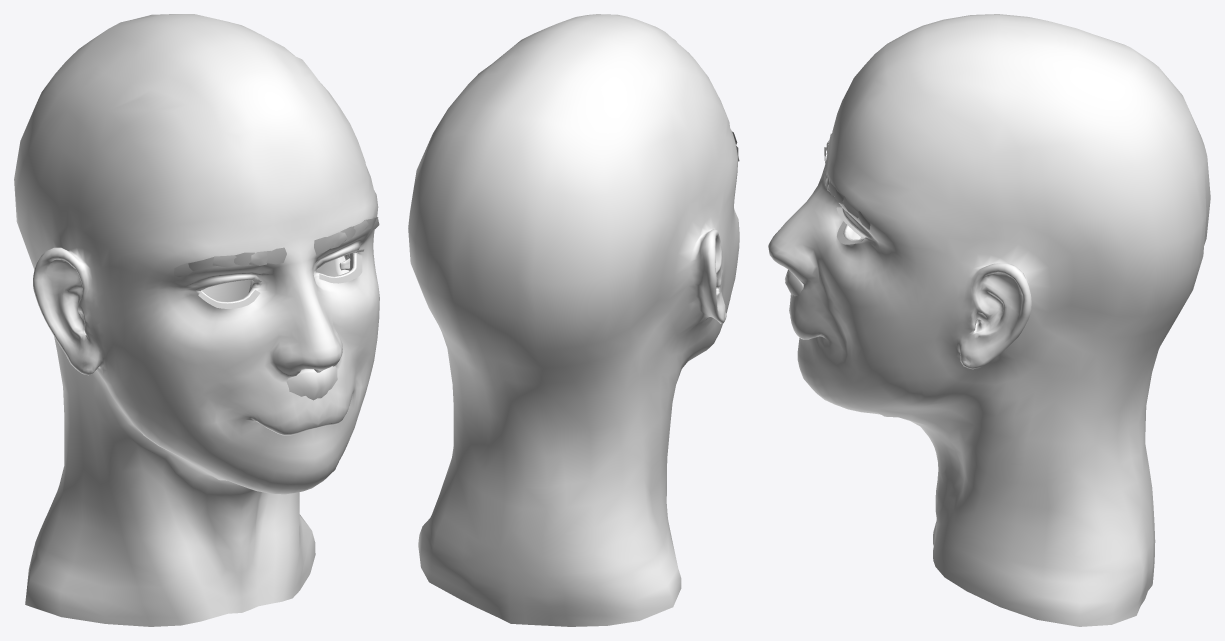
Rendered from mouthClose.obj.
3 renders of one model, left to right at view 1: azimuth 30°, elevation 25°; view 2: azimuth 150°, elevation 25°; view 3: azimuth 270°, elevation 25°, orthographic. The views are drawn at different scales.
Visible parts, largest first — view 1: FaceMesh_Plane.003; view 2: FaceMesh_Plane.003; view 3: FaceMesh_Plane.003.
Part boxes in pixels (<box>): FaceMesh_Plane.003: <box>14,14,379,626</box>; FaceMesh_Plane.003: <box>408,14,739,626</box>; FaceMesh_Plane.003: <box>768,14,1210,626</box>.
Bounding box in the file's own units: 1.54 × 2.71 × 1.94.
5 materials, 1 textured.
